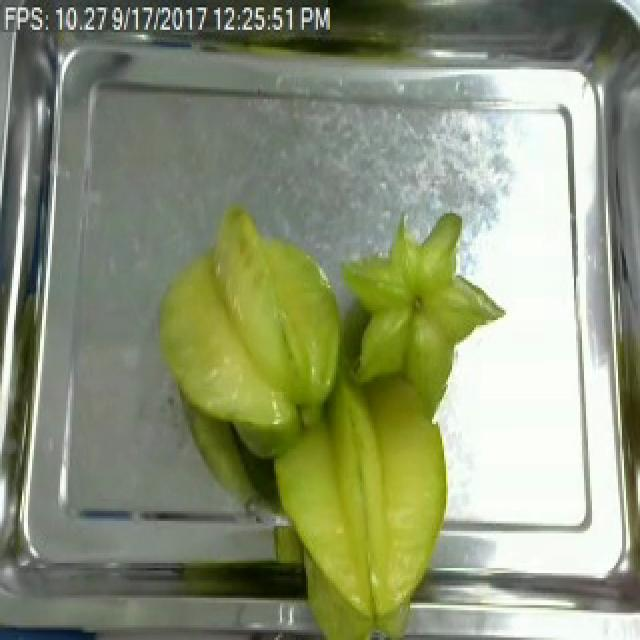fruit: (258, 370, 460, 638), (142, 199, 356, 439), (344, 206, 514, 414)
